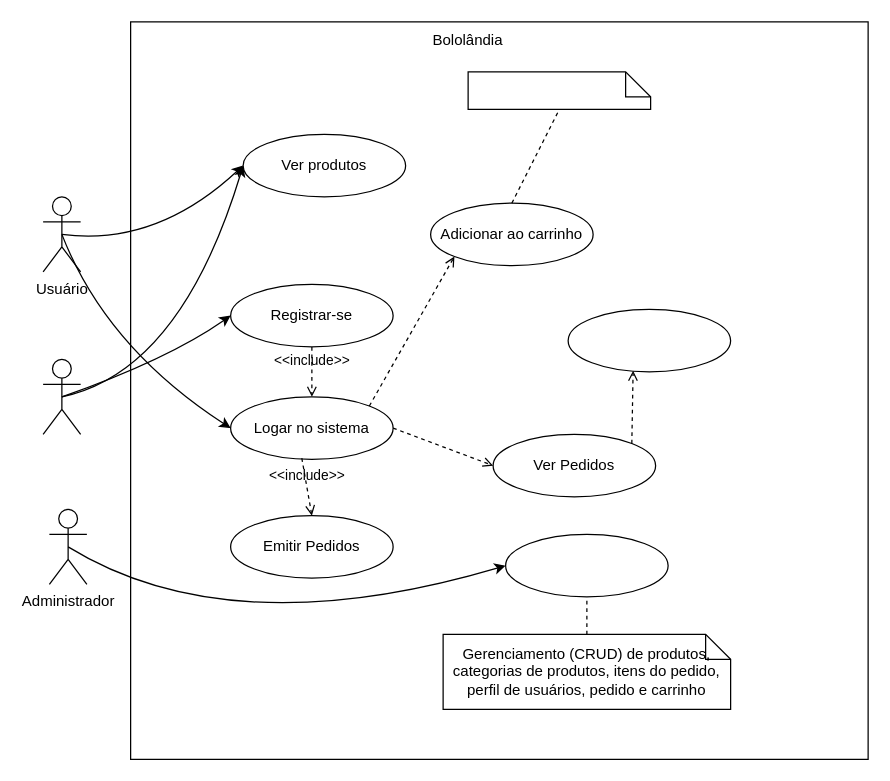
Image size: 890x781. Some labels were removed from this diagram. Here are the shapes that lost their labels. From the top down, the centre of each, then its label:
At point (559, 90): "Criar, ver, atualizar e deletar".
At point (649, 340): "Ver Detalhes do Pedido".
At point (61, 396): "Visitante".
At point (586, 565): "Gerenciar módulos do sistema".
